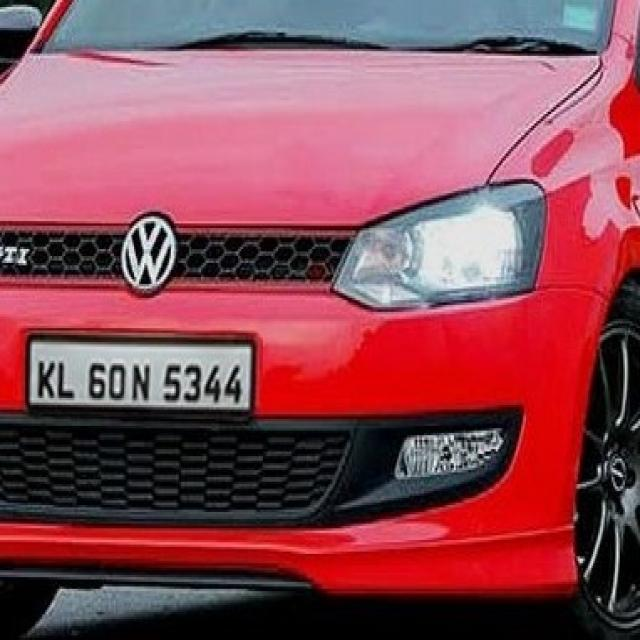license-plate: (25, 335, 251, 410)
